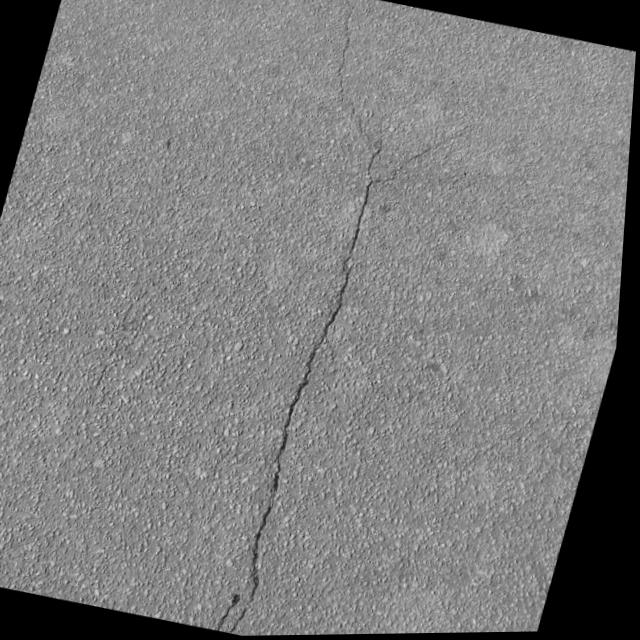Crack: (174, 0, 435, 638)
